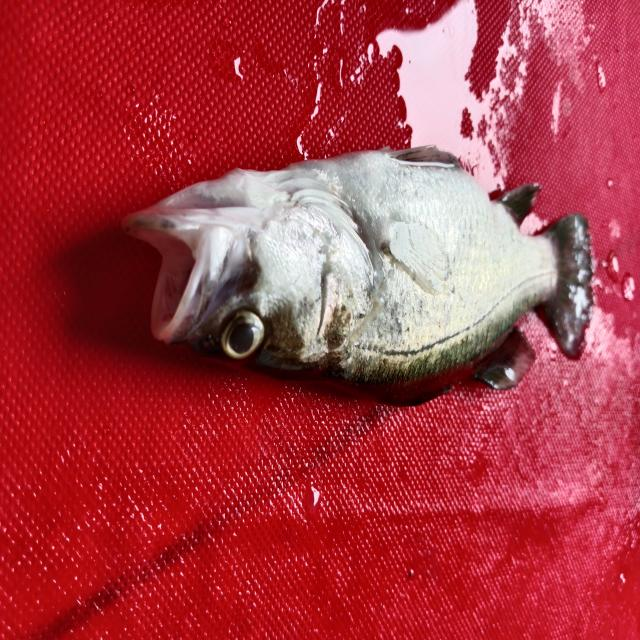ikan: (113, 135, 611, 416)
